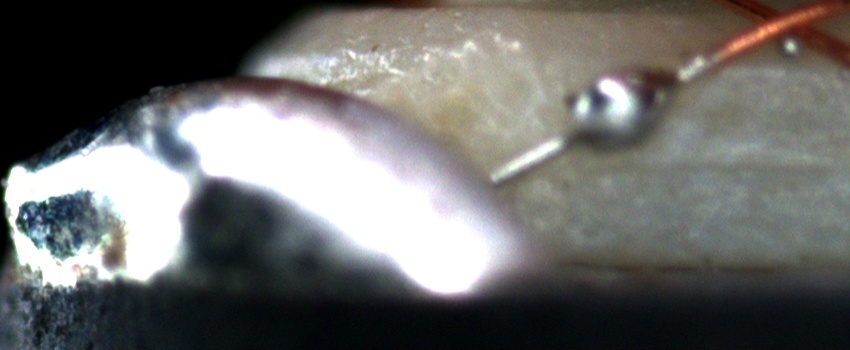CL: (729, 1, 823, 59)
DL: (576, 133, 850, 197), (696, 48, 850, 93)
TB: (563, 61, 679, 164)
TS: (489, 57, 718, 184)
TTCW: (478, 26, 758, 191)
